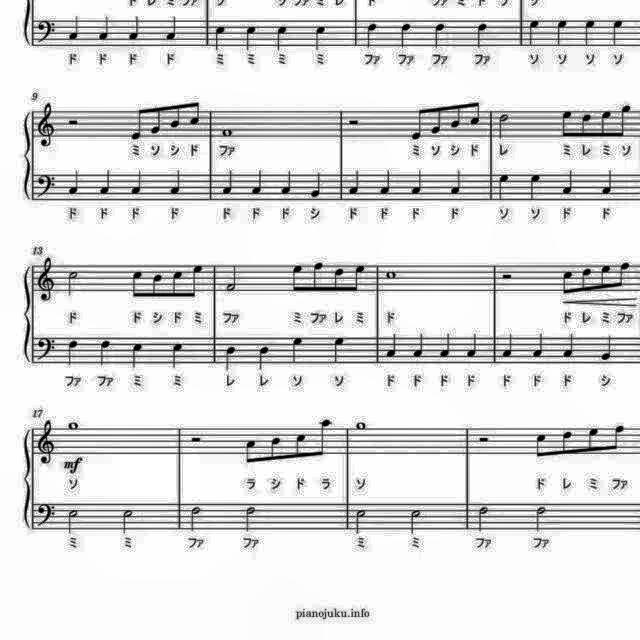Bass-clef: (34, 335, 58, 365), (34, 500, 58, 530), (34, 18, 58, 46), (34, 172, 58, 200)
Eighth-note: (314, 416, 334, 462), (128, 105, 148, 144), (618, 100, 636, 140), (409, 104, 427, 142), (266, 432, 286, 466), (188, 262, 205, 302), (350, 262, 368, 298), (129, 266, 147, 302), (534, 428, 554, 460), (240, 436, 260, 468), (291, 431, 309, 464), (310, 259, 326, 295), (608, 423, 626, 455), (428, 104, 444, 140), (288, 262, 304, 298), (558, 428, 576, 459), (148, 104, 164, 138), (618, 259, 634, 291), (586, 425, 602, 457), (168, 98, 184, 130), (170, 268, 186, 300), (580, 264, 596, 296), (186, 96, 202, 128), (332, 264, 348, 296), (597, 261, 613, 293), (466, 96, 482, 128), (560, 266, 576, 298), (598, 106, 614, 138), (558, 110, 574, 142), (148, 270, 164, 300), (578, 112, 594, 142), (449, 98, 463, 130)
Full-note: (64, 418, 82, 434), (353, 418, 369, 434), (382, 268, 400, 282), (218, 126, 235, 140)
Half-note: (530, 504, 550, 534), (239, 502, 257, 534), (187, 501, 205, 533), (223, 262, 241, 294), (495, 111, 513, 142), (407, 506, 425, 536), (64, 507, 82, 537), (118, 506, 136, 536), (352, 507, 370, 537), (475, 502, 493, 532), (66, 268, 82, 300)
Half-rest: (343, 114, 361, 130), (186, 431, 204, 445), (64, 114, 82, 128), (476, 432, 494, 444), (498, 270, 514, 282)
Quarter-note: (495, 170, 513, 202), (97, 336, 115, 368), (287, 334, 305, 366), (331, 334, 349, 366), (64, 336, 82, 368), (306, 172, 324, 204), (361, 20, 379, 50), (430, 20, 448, 50), (598, 167, 616, 197), (395, 20, 413, 50), (597, 333, 615, 363), (560, 331, 578, 361), (126, 13, 144, 43), (472, 19, 490, 49), (169, 340, 187, 370), (218, 167, 236, 197), (346, 167, 364, 197), (240, 21, 258, 51), (255, 343, 273, 372), (162, 13, 180, 42), (582, 16, 598, 48), (610, 16, 626, 48), (526, 170, 542, 202), (554, 16, 570, 48), (274, 20, 290, 52), (168, 167, 185, 197), (409, 167, 426, 197), (526, 17, 542, 48), (384, 332, 401, 361), (67, 12, 83, 42), (560, 167, 576, 197), (130, 340, 146, 370), (448, 167, 464, 197), (222, 343, 238, 373), (212, 23, 228, 53), (130, 168, 146, 198), (500, 332, 516, 362), (97, 13, 113, 43), (312, 23, 328, 53), (533, 332, 549, 362), (278, 167, 294, 197), (378, 167, 394, 197), (98, 167, 114, 197), (466, 332, 482, 362), (438, 331, 454, 361), (250, 167, 266, 197), (411, 331, 427, 361), (67, 171, 83, 201)
Treble-clef: (32, 103, 56, 153), (32, 418, 56, 467), (33, 256, 56, 304)
